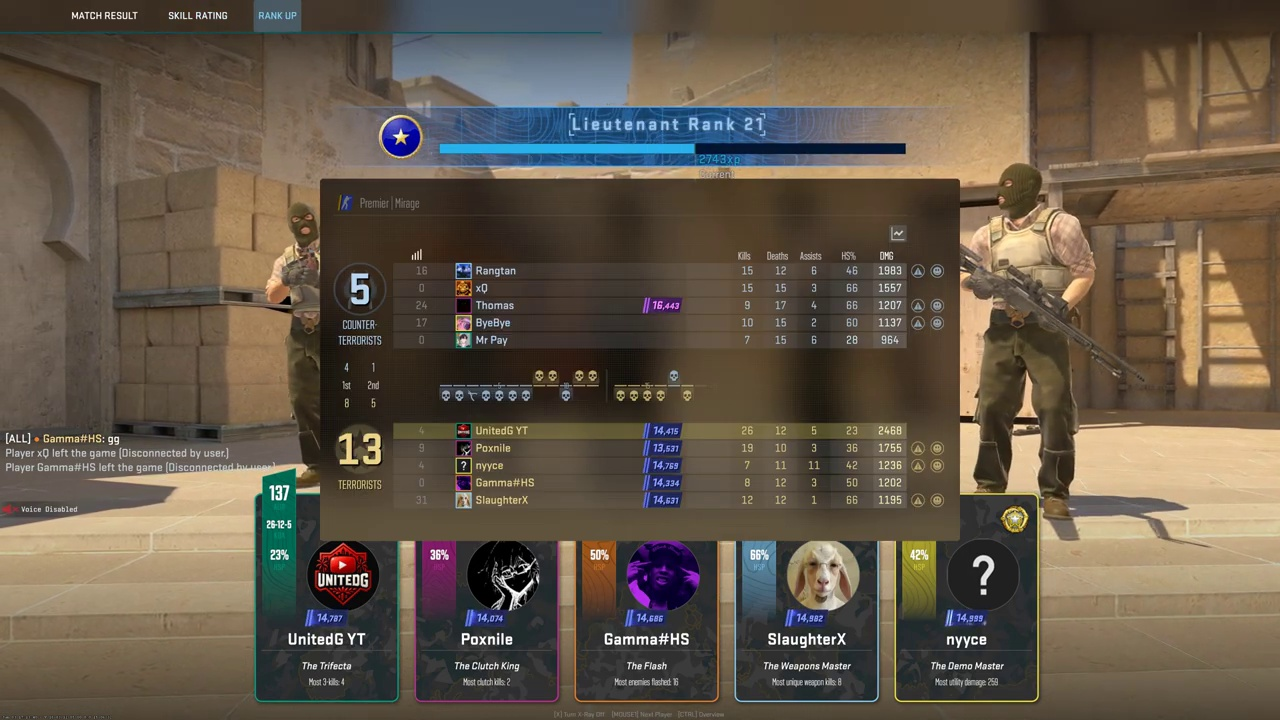Terrorist: (970, 163, 1089, 521), (269, 202, 321, 488)
